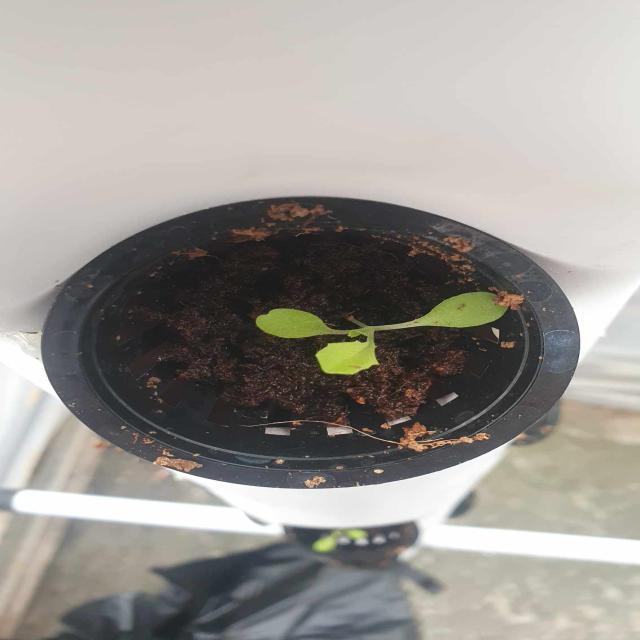Lettuce-Not-Ready-to-Harvest: (252, 283, 512, 379)
